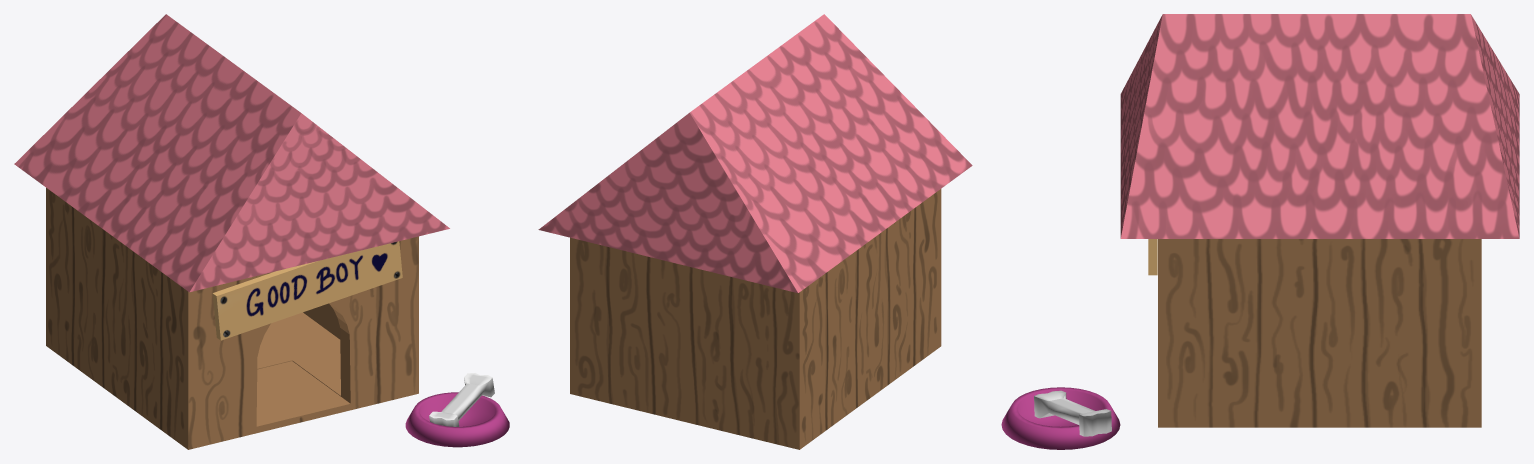
The model's file is Hundehütte.fbx.
3 views of the same model, side by side, from view 1: azimuth 30°, elevation 25°; view 2: azimuth 150°, elevation 25°; view 3: azimuth 270°, elevation 25° (orthographic). The views are drawn at different scales.
Visible parts, largest first — view 1: Cone, Cube.001, Plane, Circle, Cube; view 2: Cone, Cube.001; view 3: Cone, Cube.001, Circle, Cube.
Boxes of the visible parts, x1=… form: Cone: x1=14, y1=14, x2=449, y2=292; Cube.001: x1=46, y1=188, x2=418, y2=449; Plane: x1=212, y1=241, x2=402, y2=340; Circle: x1=405, y1=392, x2=509, y2=447; Cube: x1=429, y1=373, x2=494, y2=426; Cone: x1=538, y1=14, x2=972, y2=292; Cube.001: x1=570, y1=189, x2=941, y2=449; Cone: x1=1120, y1=14, x2=1519, y2=238; Cube.001: x1=1158, y1=239, x2=1481, y2=427; Circle: x1=1001, y1=387, x2=1120, y2=449; Cube: x1=1034, y1=390, x2=1111, y2=436.
Size of the model in its own units: 452 by 459 by 616.
